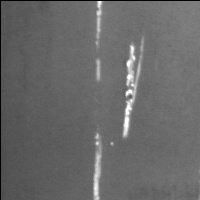scratches: (120, 42, 149, 140), (91, 1, 108, 82), (89, 130, 107, 200)
